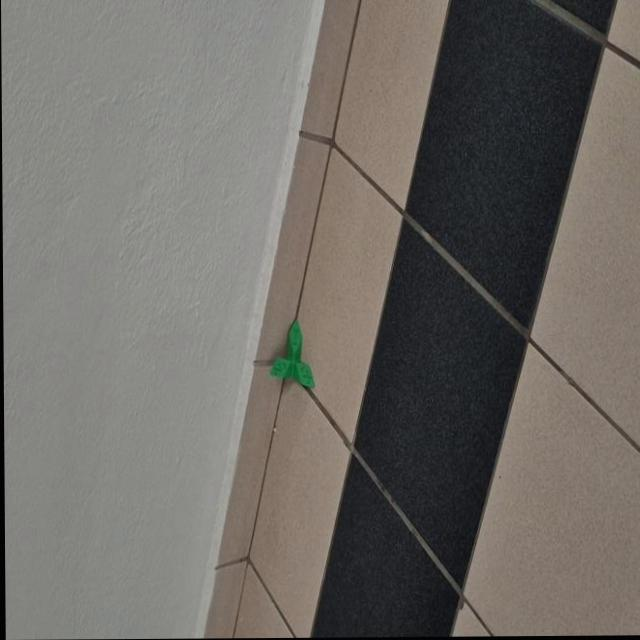eje: (267, 317, 315, 390)
